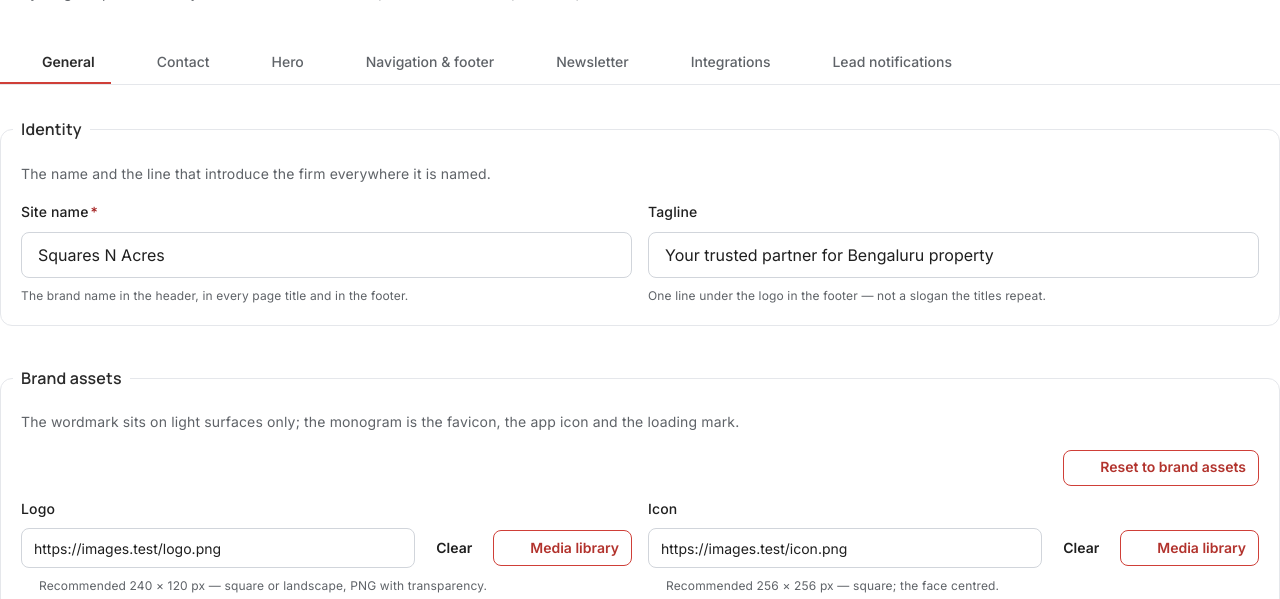
it: QA-64 › keeps the six digits of a PIN code pasted with a space
Check: the field labelled "Site name*" is shown, box top-left (21, 232), bottom-right (632, 278)
Click the tab "Contact": (170, 62) top-left (115, 40), bottom-right (226, 84)
(page scrolled)
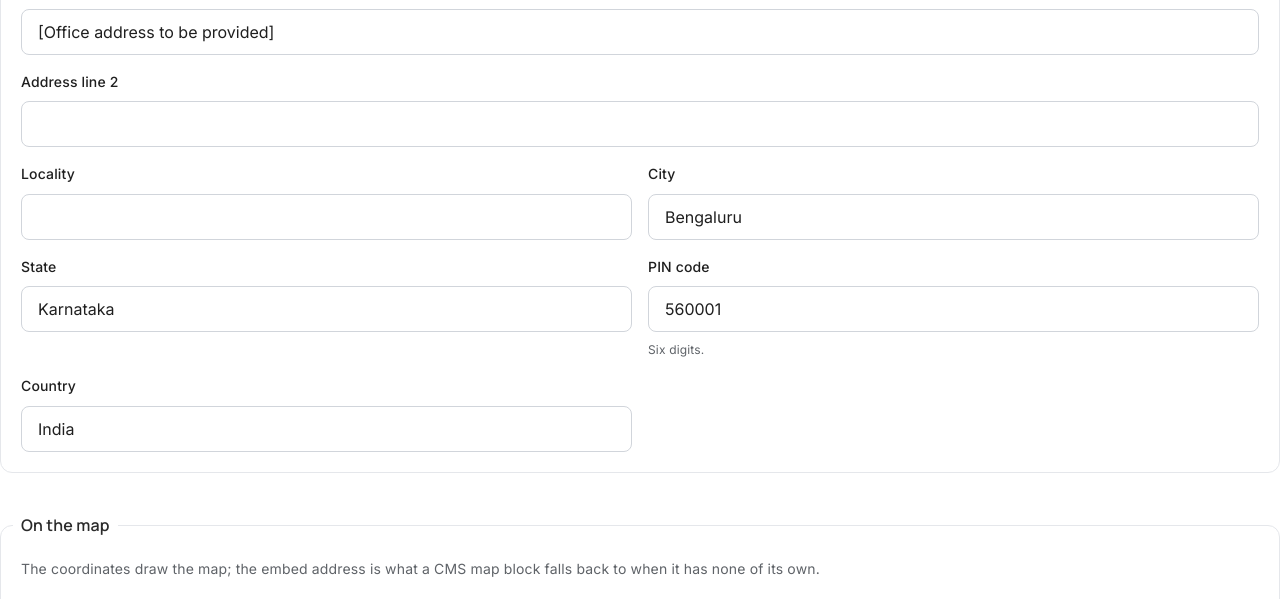
Replace the text in the field labelled "PIN code" with " 560 034": (954, 309) top-left (648, 286), bottom-right (1259, 332)
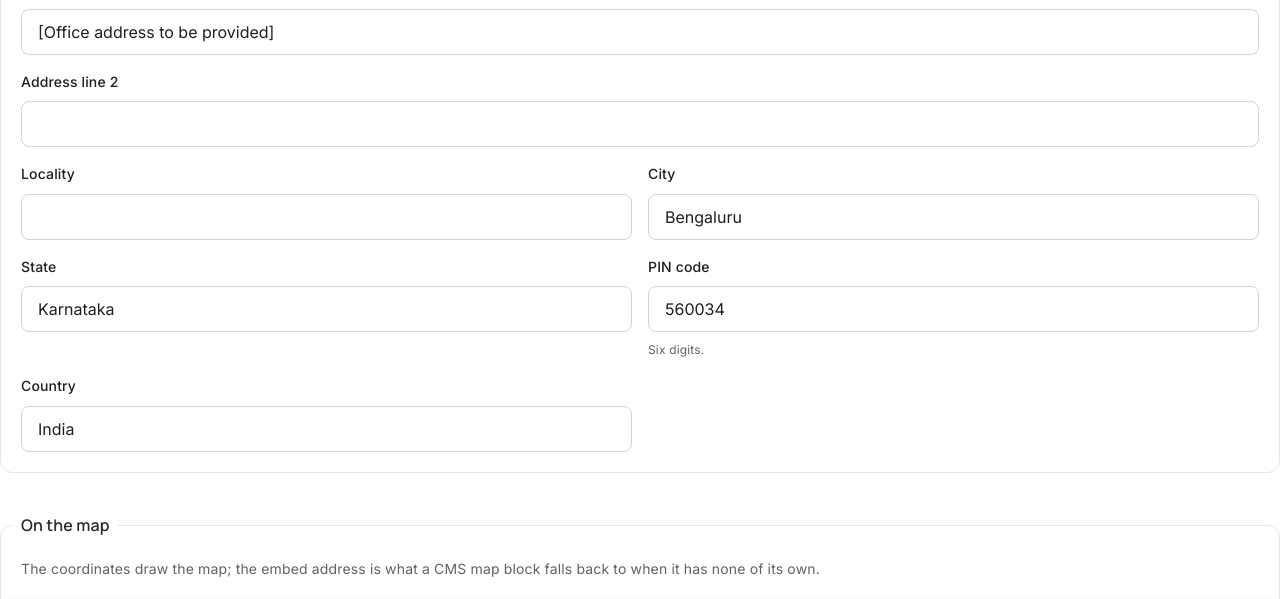
Check: the field labelled "PIN code" holds "560034", box top-left (648, 286), bottom-right (1259, 332)
